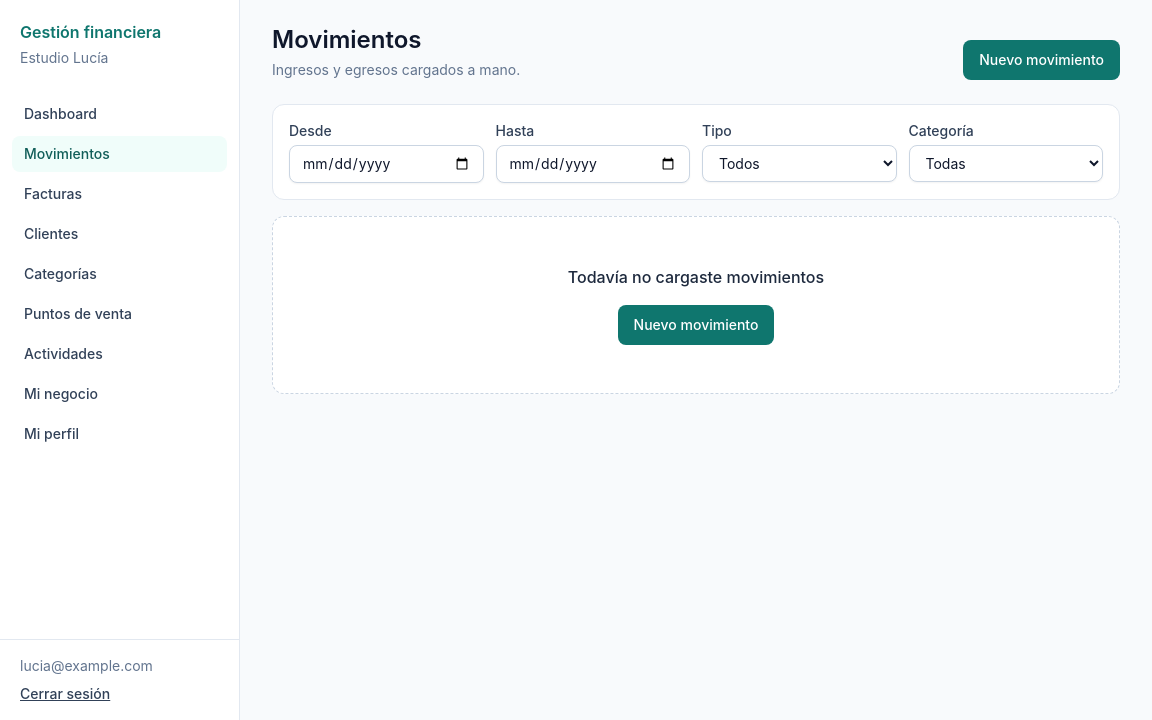
Test: new transaction form › asks for the exchange rate when the movement is in USD
The width and height of the screenshot is (1152, 720).
Click the button "Nuevo movimiento" in the row of "Ingresos y egresos cargados a mano." at (1042, 60), box [963, 40, 1120, 80]
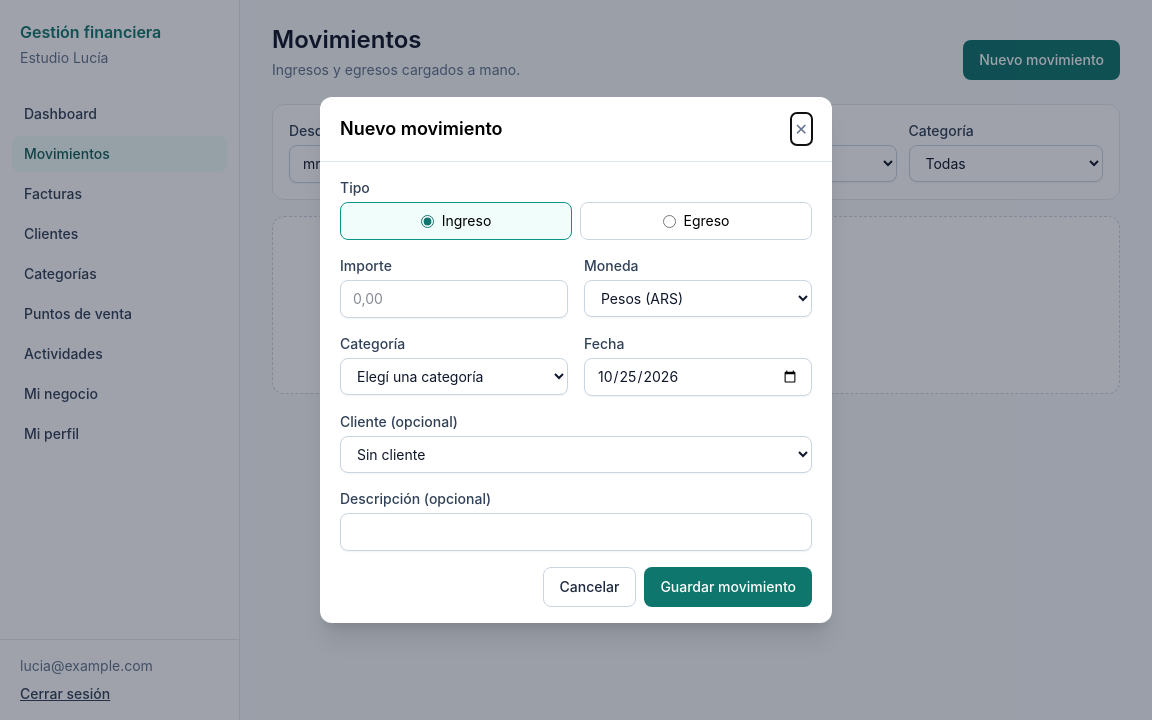
Expected: the field labelled "Tipo de cambio" is not shown
Type "100" into the field labelled "Importe" at (454, 299), box [340, 280, 568, 318]
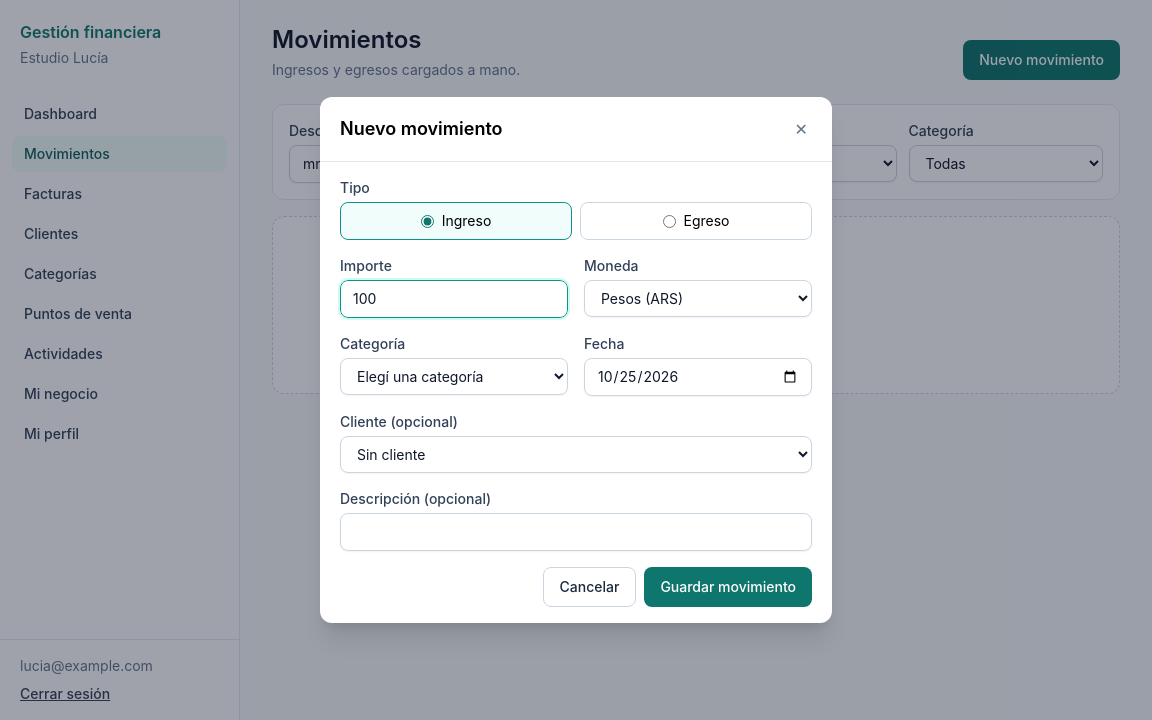
Select "Dólares (USD)" in the dropdown labelled "Moneda" at (698, 298), box [584, 280, 812, 317]
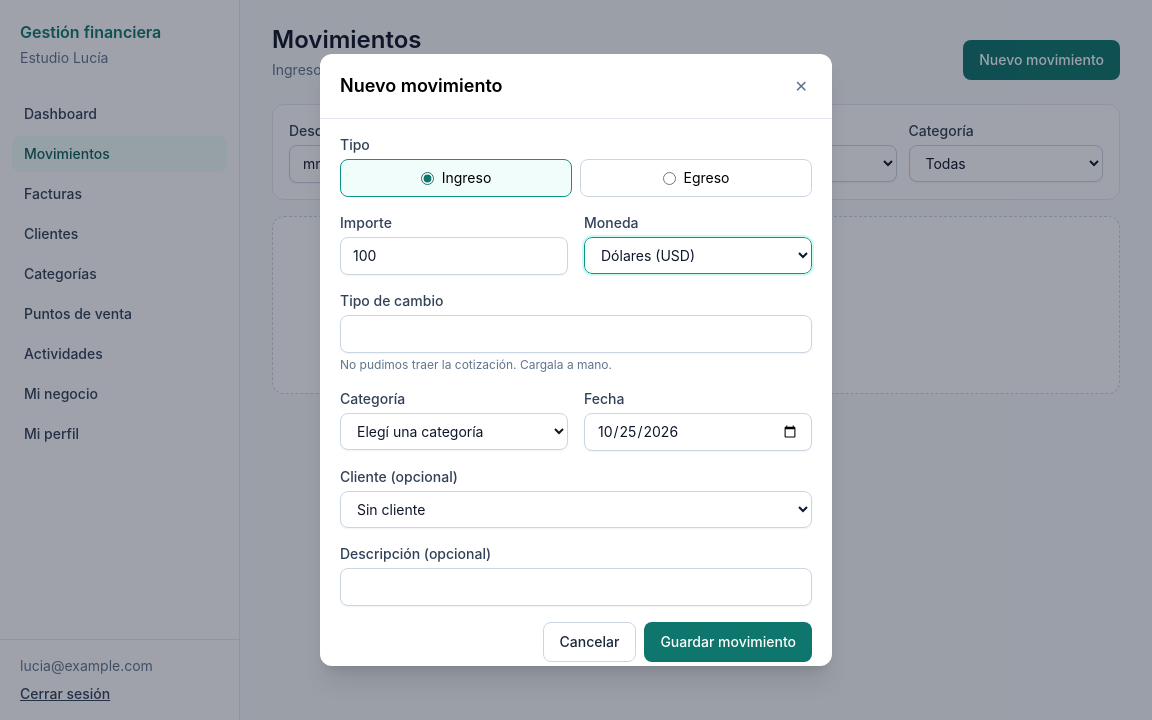
Select "Ventas" in the dropdown labelled "Categoría" at (454, 432), box [340, 413, 568, 450]
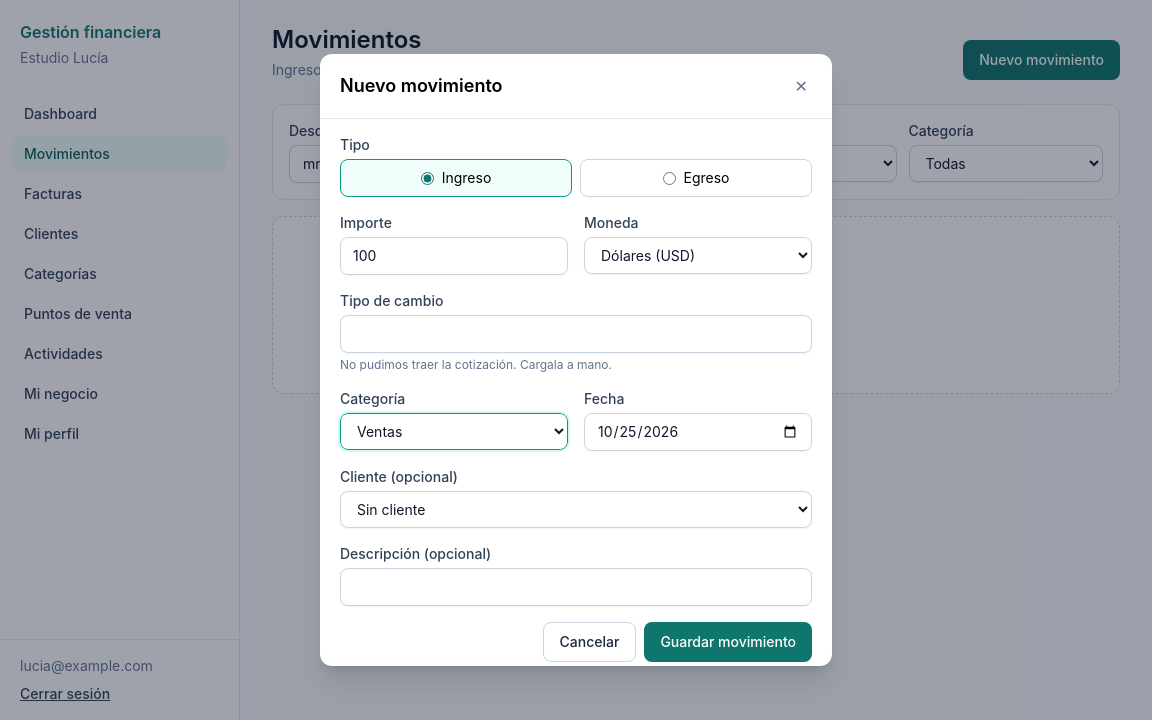
Click the button "Guardar movimiento" at (728, 642), box [644, 622, 812, 662]
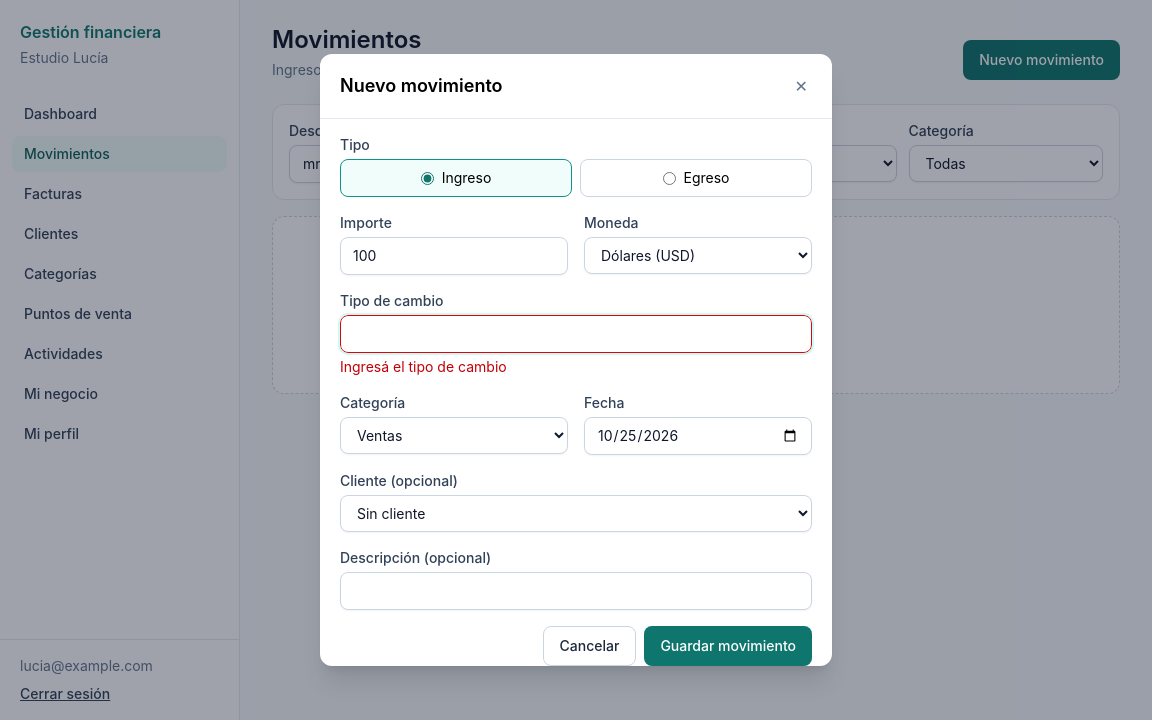
Result: the text "Ingresá el tipo de cambio" is shown at [340, 358, 507, 375]
